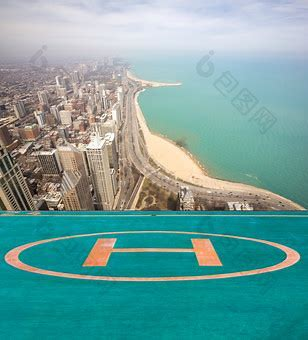H: (81, 239, 223, 267)
